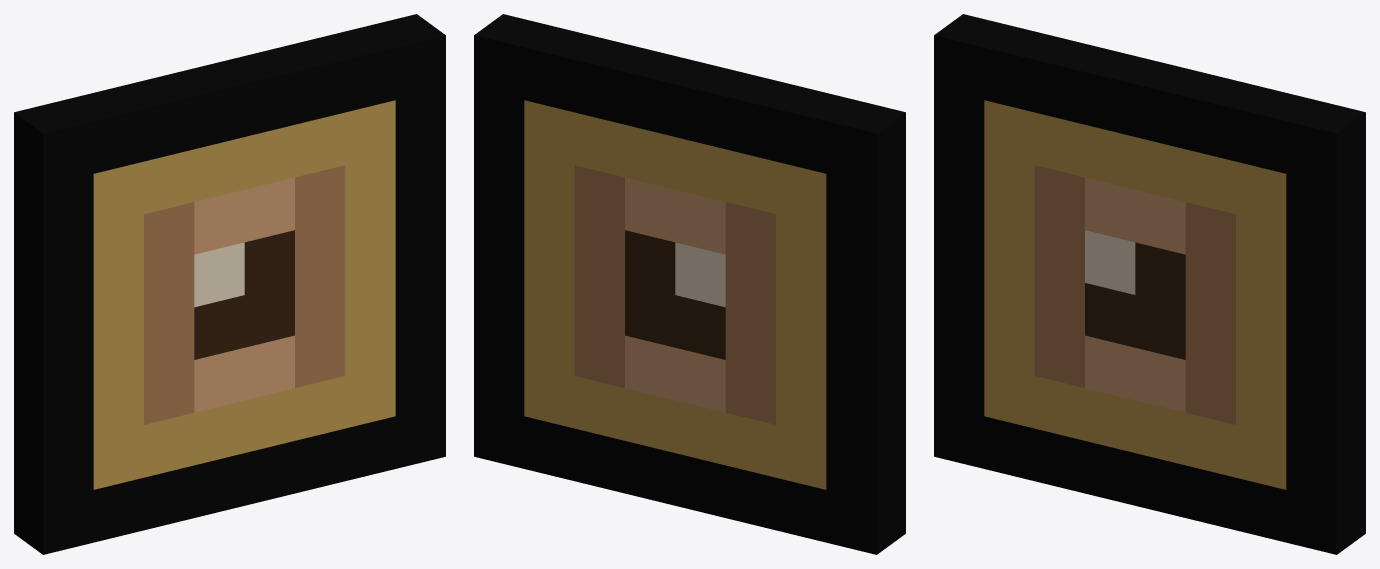
Rendered from Deer Painting.glb.
3 views of the same model, side by side, from view 1: azimuth 30°, elevation 25°; view 2: azimuth 150°, elevation 25°; view 3: azimuth 330°, elevation 25° (orthographic).
Parts seen in each view (by area): view 1: generated(Clone); view 2: generated(Clone); view 3: generated(Clone).
Boxes of the visible parts, x1=… form: generated(Clone): x1=14, y1=14, x2=445, y2=554; generated(Clone): x1=474, y1=14, x2=905, y2=554; generated(Clone): x1=934, y1=14, x2=1365, y2=554.
Size of the model in its own units: 8 by 8 by 1.
Materials: 1 (1 with a texture image).
